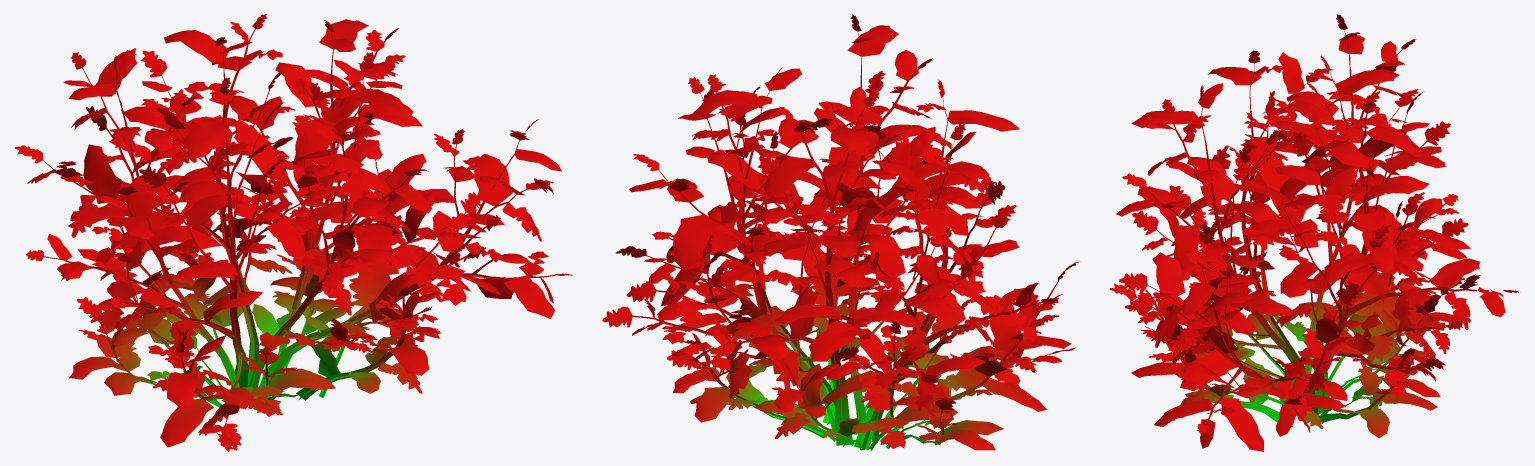
The model's file is Black Locust_LOD2_Var12.fbx.
The picture shows the model from 3 angles, left to right: view 1: azimuth 30°, elevation 25°; view 2: azimuth 150°, elevation 25°; view 3: azimuth 270°, elevation 25°; orthographic projection. The views are drawn at different scales.
Visible parts, largest first — view 1: _7ql3_Var12_LOD2; view 2: _7ql3_Var12_LOD2; view 3: _7ql3_Var12_LOD2.
Boxes of the visible parts, box(x1,y1,x2,y2) form: _7ql3_Var12_LOD2: box(14, 14, 572, 451); _7ql3_Var12_LOD2: box(602, 14, 1079, 450); _7ql3_Var12_LOD2: box(1109, 14, 1519, 451).
Bounding box in the file's own units: 182 × 148 × 155.
